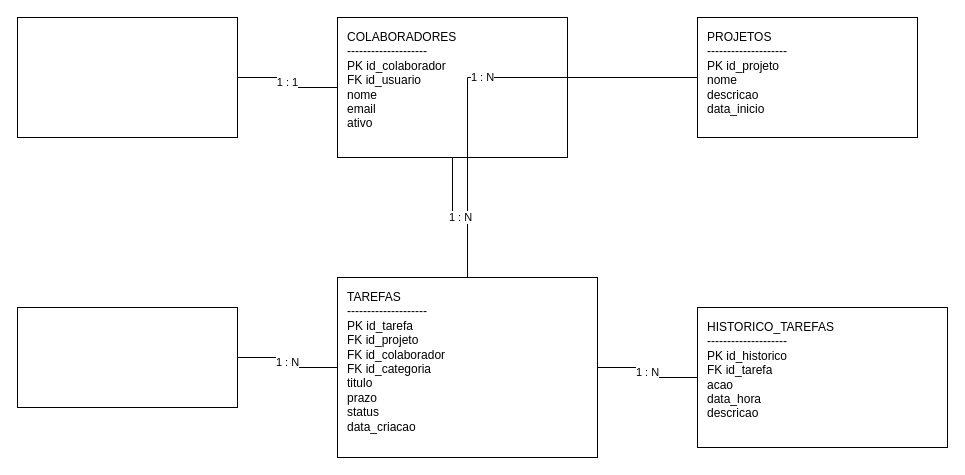
Some shapes in this 965 by 475 pixel diagram are drawn without their labels. Here are the shapes that lost their labels. From the top down, the centre of each, then its label:
point (127, 77): USUARIOS -------------------- PK id_usuario nome email (UNIQUE) senha_hash
point (127, 357): CATEGORIAS -------------------- PK id_categoria nome
